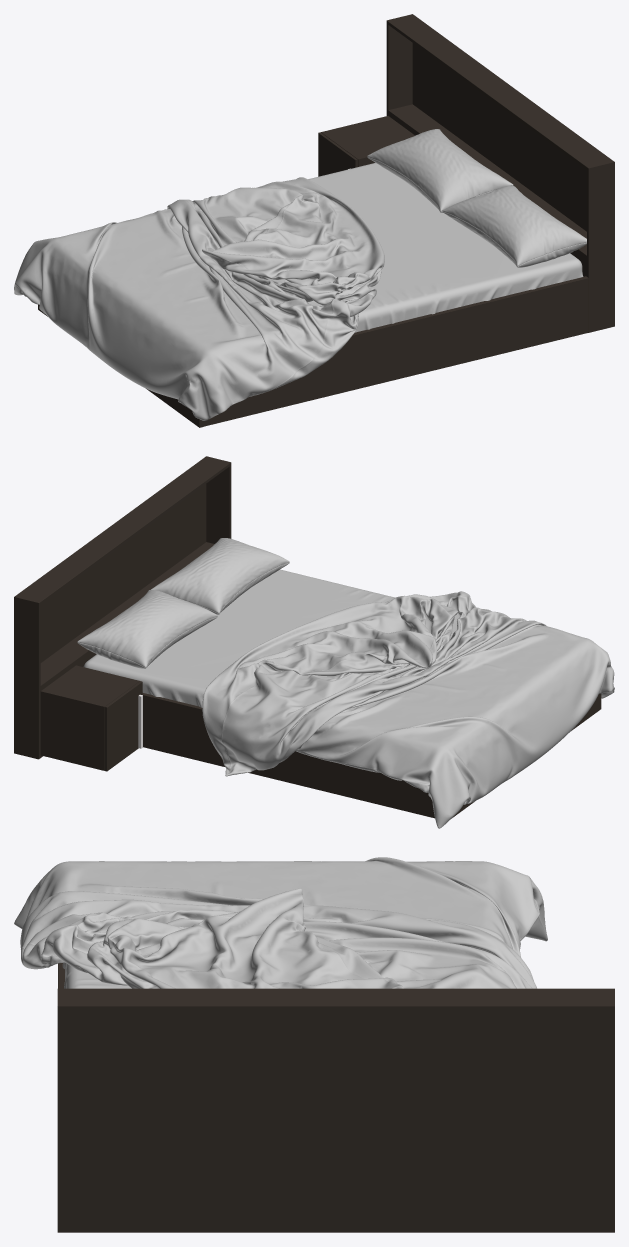
Rendered from bed_agape.glb.
3 renders of one model, top to bottom at view 1: azimuth 30°, elevation 25°; view 2: azimuth 150°, elevation 25°; view 3: azimuth 270°, elevation 25°, orthographic. The views are drawn at different scales.
Visible parts, largest first — view 1: Object_7, Object_4, Object_3, Object_5, Object_6; view 2: Object_7, Object_3, Object_4, Object_5, Object_6; view 3: Object_7, Object_3, Object_4, Object_5, Object_6.
Part boxes in pixels (x1,y1,x2,y2): Object_7: (38,14,614,427); Object_4: (14,129,583,420); Object_3: (14,131,586,420); Object_5: (14,130,586,414); Object_6: (14,130,586,414); Object_7: (14,456,601,818); Object_3: (77,538,614,828); Object_4: (78,539,614,814); Object_5: (77,538,613,825); Object_6: (78,538,613,828); Object_7: (57,963,614,1232); Object_3: (14,857,547,988); Object_4: (21,857,531,988); Object_5: (19,858,547,988); Object_6: (15,861,547,988).
Size of the model in its own units: 250 by 89.85 by 216.
3 materials, 1 textured.
